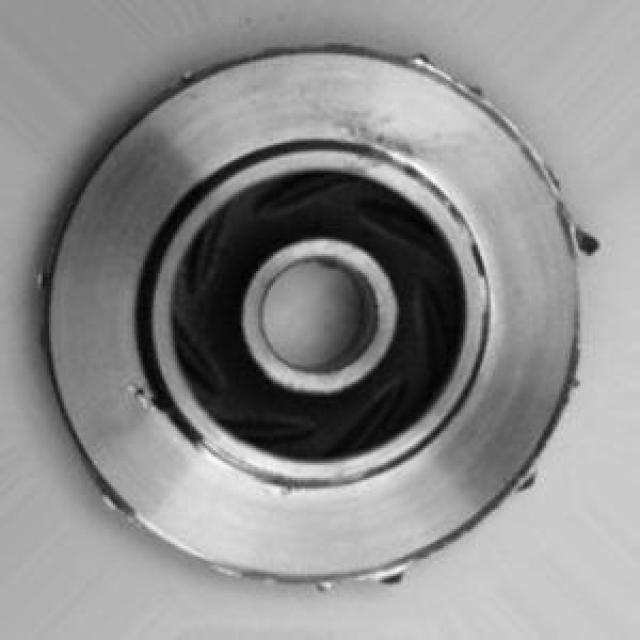Defect: (562, 208, 608, 272), (132, 376, 184, 423)
